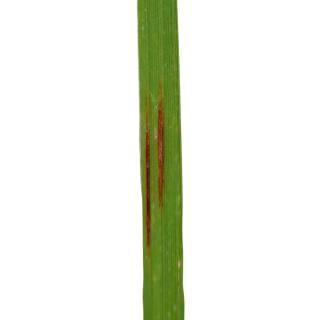Bercak-Cokelat-Sempit: (138, 86, 168, 264)
